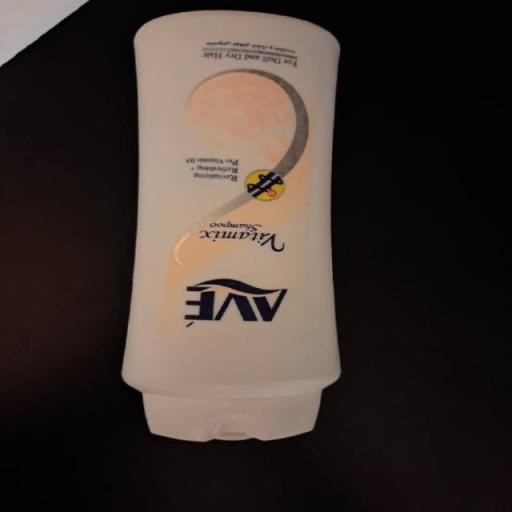plastic: (118, 6, 348, 444)
